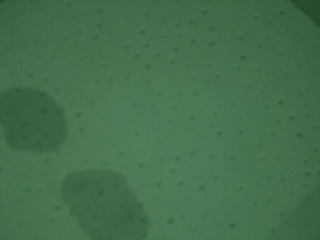Water_detected: (73, 178, 134, 237), (1, 99, 57, 147)
